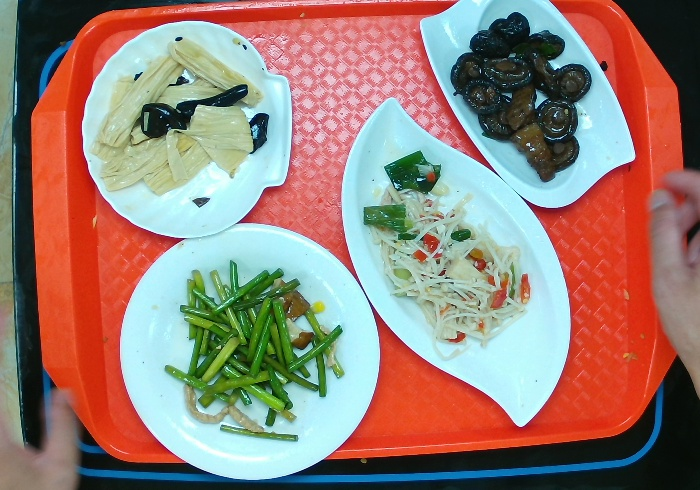RJxy-Bei_Ke_Wan: (81, 19, 293, 239)
RJxy-Jian_Jiao_Fang_Die: (417, 1, 638, 210)
RJxy-Jian_Jiao_Pan: (337, 95, 573, 429)
RJxy-Yuan_Pan: (118, 221, 383, 480)
